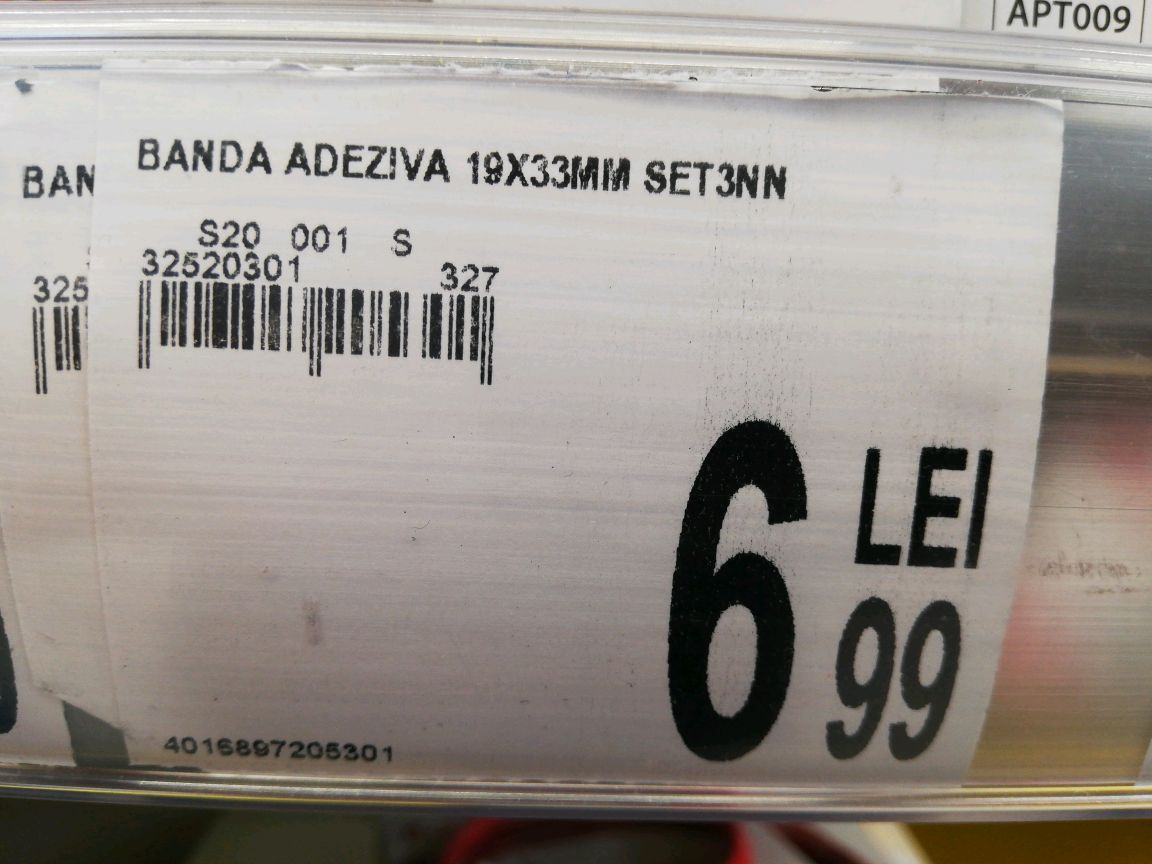price_bani: (812, 588, 981, 778)
price_lei: (649, 409, 819, 769)
price_tag: (90, 51, 1068, 810)
product_id: (150, 727, 410, 774)
product_name: (124, 130, 801, 209)
